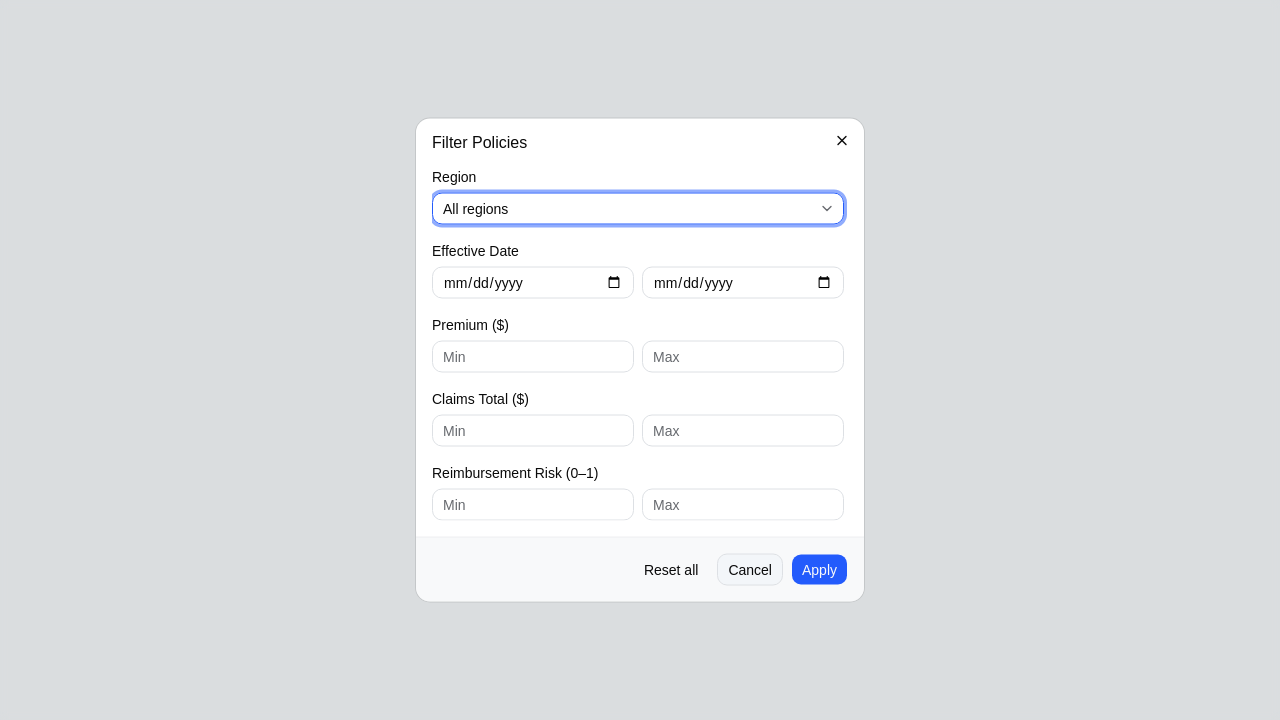
FilterModal › shows validation error when premium min exceeds max
Type "50000" into the number field named "premium minimum".
click(533, 356); type("50000")  # box [432,340,634,372]
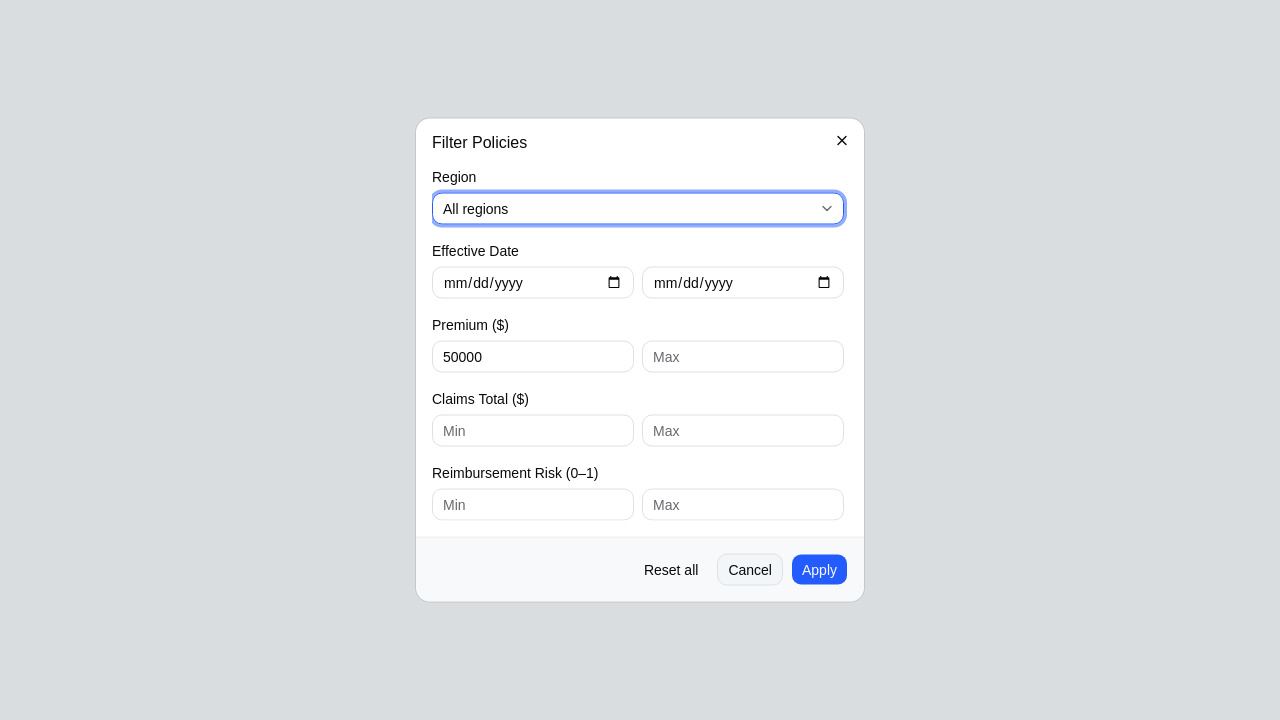
Type "10000" into the number field named "premium maximum".
click(743, 356); type("10000")  # box [642,340,844,372]
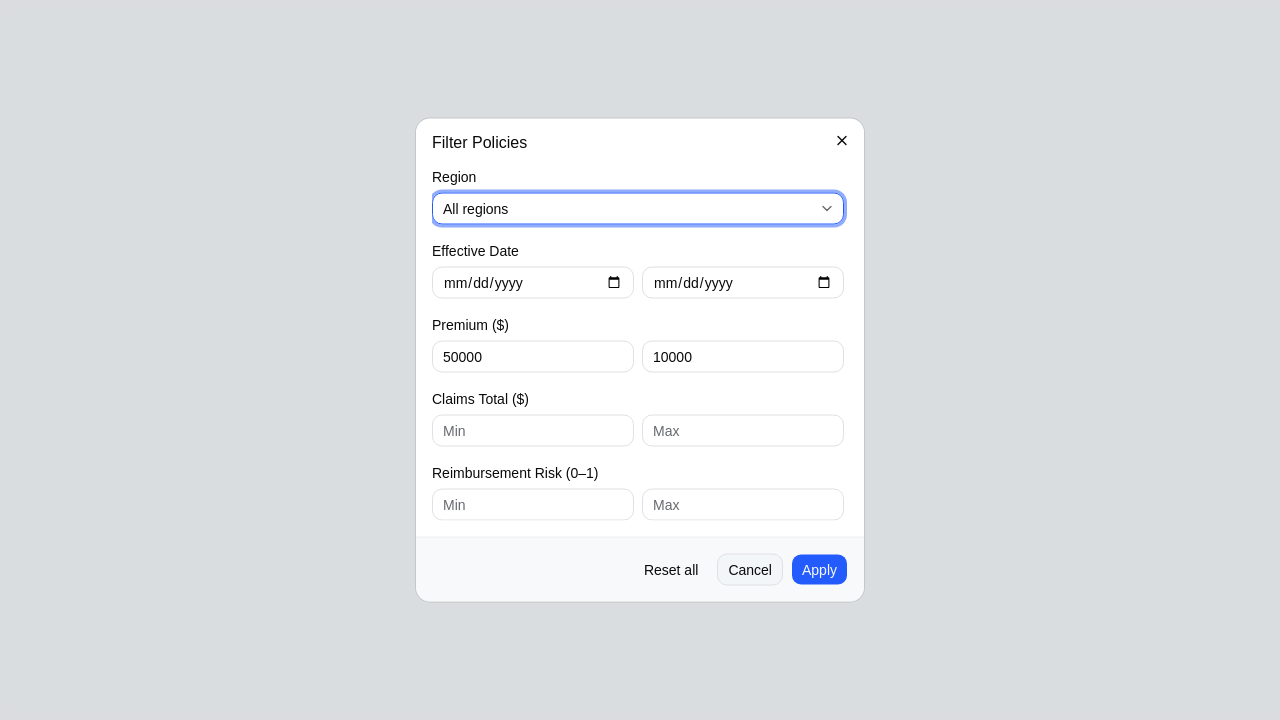
Click the button "Apply".
click(820, 570)  # box [791,554,848,586]
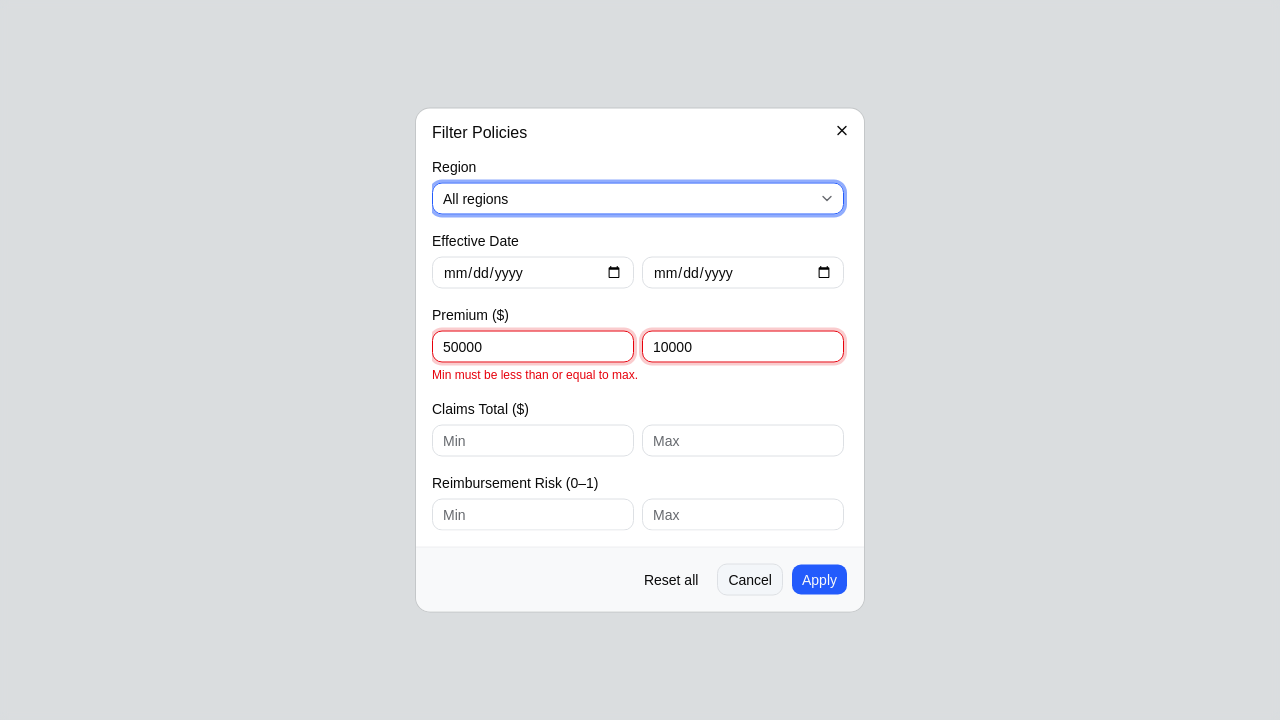
Result: the message shows "Min must be less than or equal to max" at [432,368,638,382]
